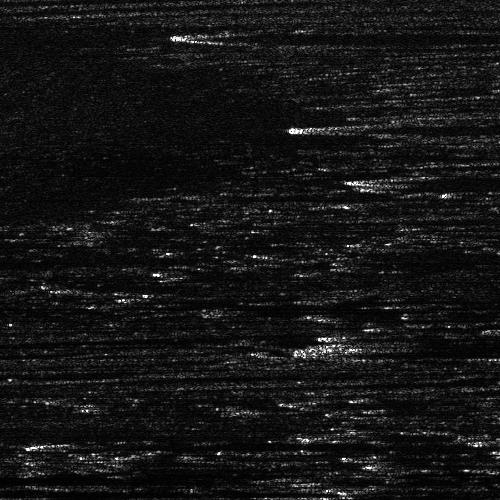rock: (202, 120, 421, 137), (341, 169, 424, 186), (11, 439, 136, 450), (265, 308, 380, 319), (324, 326, 365, 345), (478, 129, 500, 148), (188, 32, 241, 37)
shadow: (312, 120, 500, 137), (74, 439, 322, 450), (383, 169, 500, 186), (323, 308, 500, 319), (345, 326, 431, 345), (0, 470, 106, 481), (0, 485, 96, 496), (215, 32, 298, 37)
